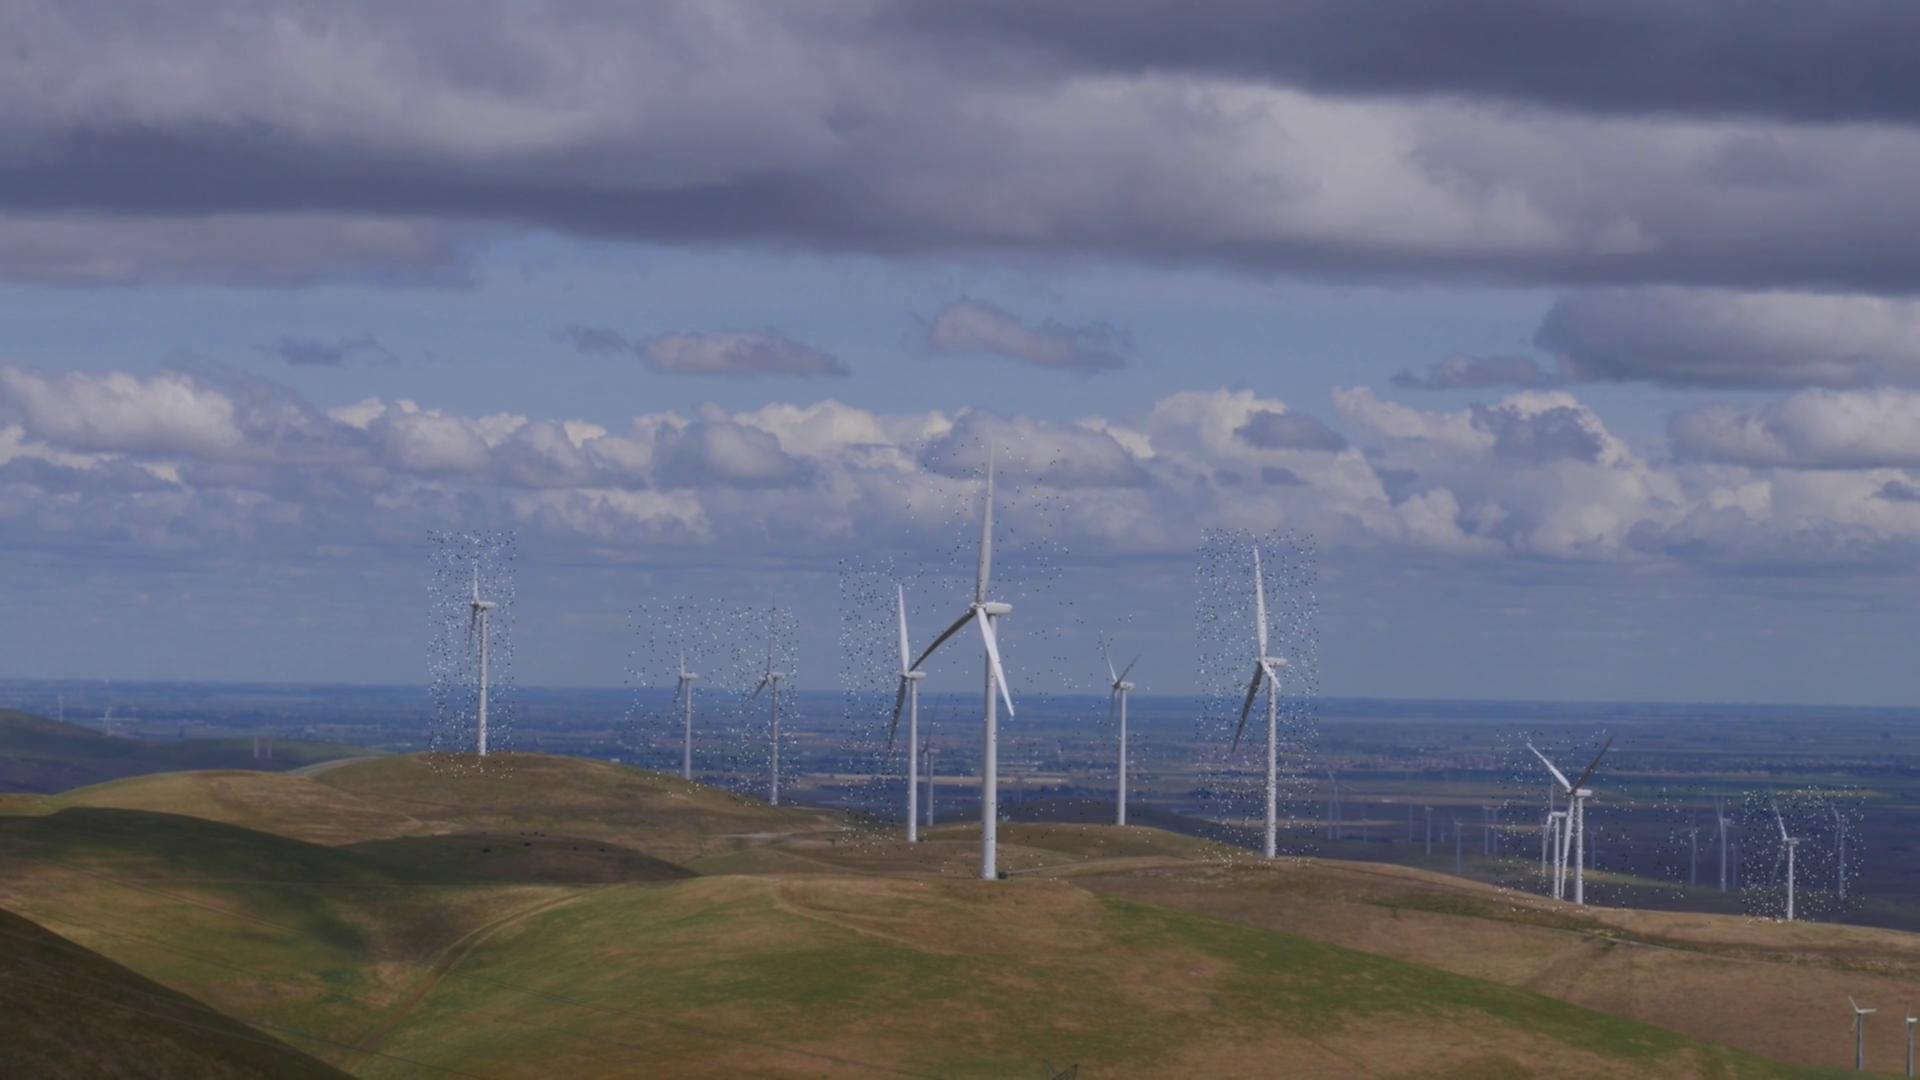turbine: (898, 438, 1072, 885), (1196, 530, 1317, 870), (840, 556, 951, 855), (1491, 731, 1635, 913), (429, 531, 516, 779), (624, 597, 725, 796), (1076, 611, 1150, 858), (728, 608, 799, 806), (1505, 758, 1582, 901), (1738, 793, 1815, 924), (1797, 786, 1866, 913), (1687, 793, 1742, 927), (1652, 785, 1709, 898)
